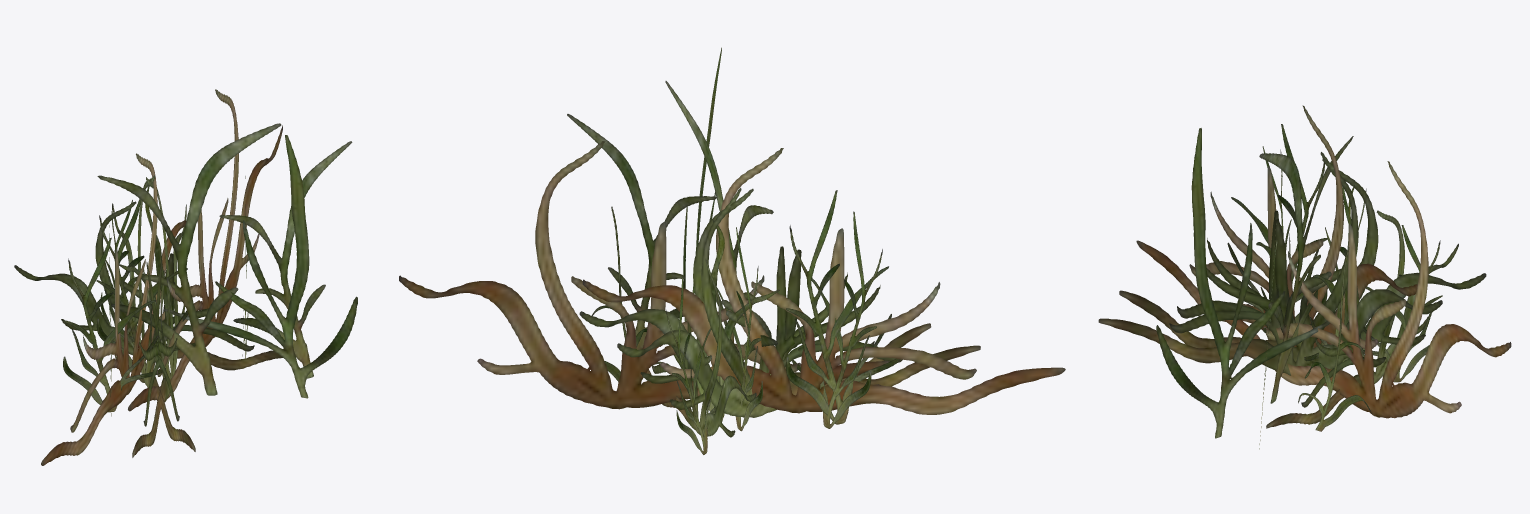
Rendered from maleza.glb.
The picture shows the model from 3 angles, left to right: view 1: azimuth 30°, elevation 25°; view 2: azimuth 150°, elevation 25°; view 3: azimuth 270°, elevation 25°; orthographic projection. The views are drawn at different scales.
Parts seen in each view (by area): view 1: cerca; view 2: cerca; view 3: cerca.
Part boxes in pixels (box(x1,y1,x2,y2)): cerca: box(14, 89, 357, 465); cerca: box(399, 47, 1065, 454); cerca: box(1098, 105, 1511, 449).
Size of the model in its own units: 1.81 by 1.13 by 1.46.
Materials: 1 (1 with a texture image).
